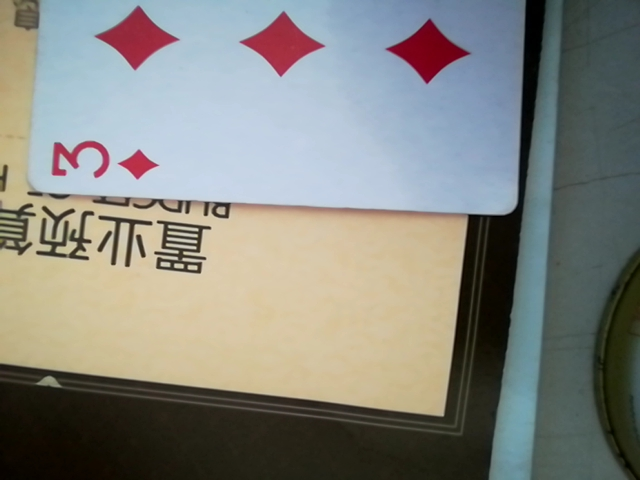fk 3: (23, 3, 542, 215)
